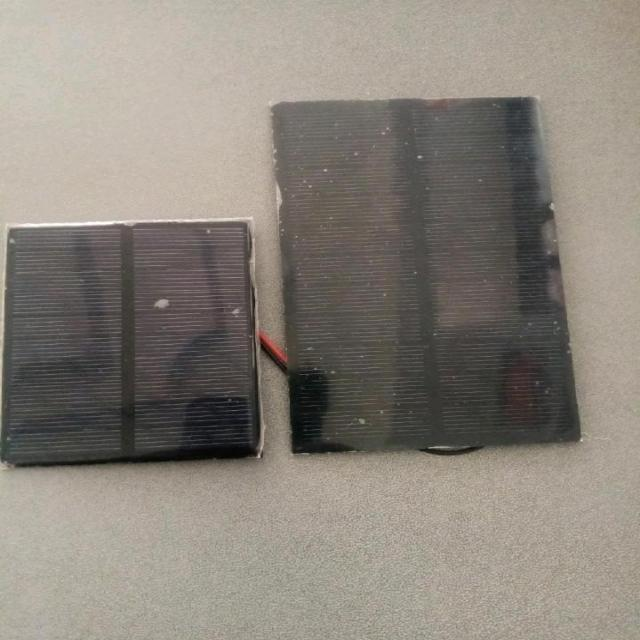faulty: (280, 108, 571, 445), (0, 228, 273, 461)
